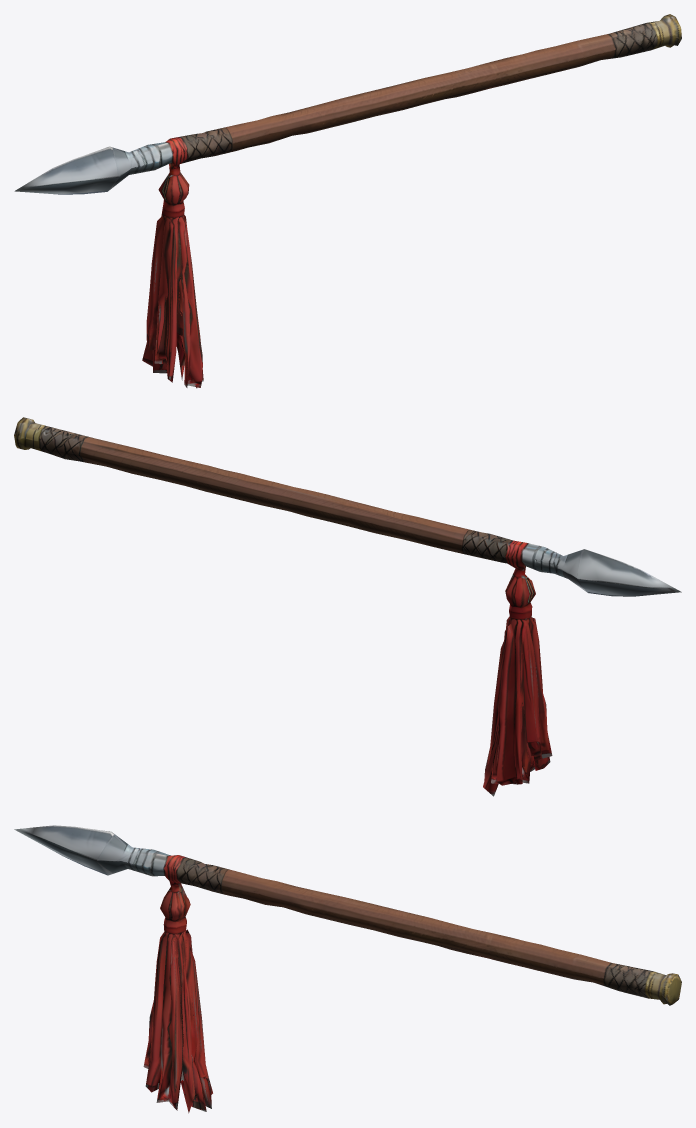
Rendered from weapon_spear.glb.
3 views of the same model, one above another, from view 1: azimuth 30°, elevation 25°; view 2: azimuth 150°, elevation 25°; view 3: azimuth 330°, elevation 25° (orthographic).
Visible parts, largest first — view 1: texture_mapping; view 2: texture_mapping; view 3: texture_mapping.
Boxes of the visible parts, x1,y1,x2,y2 form: texture_mapping: [14, 14, 681, 388]; texture_mapping: [14, 417, 681, 796]; texture_mapping: [14, 825, 681, 1113].
Bounding box in the file's own units: 0.9842 × 0.3714 × 0.0887.
1 material, 1 textured.
